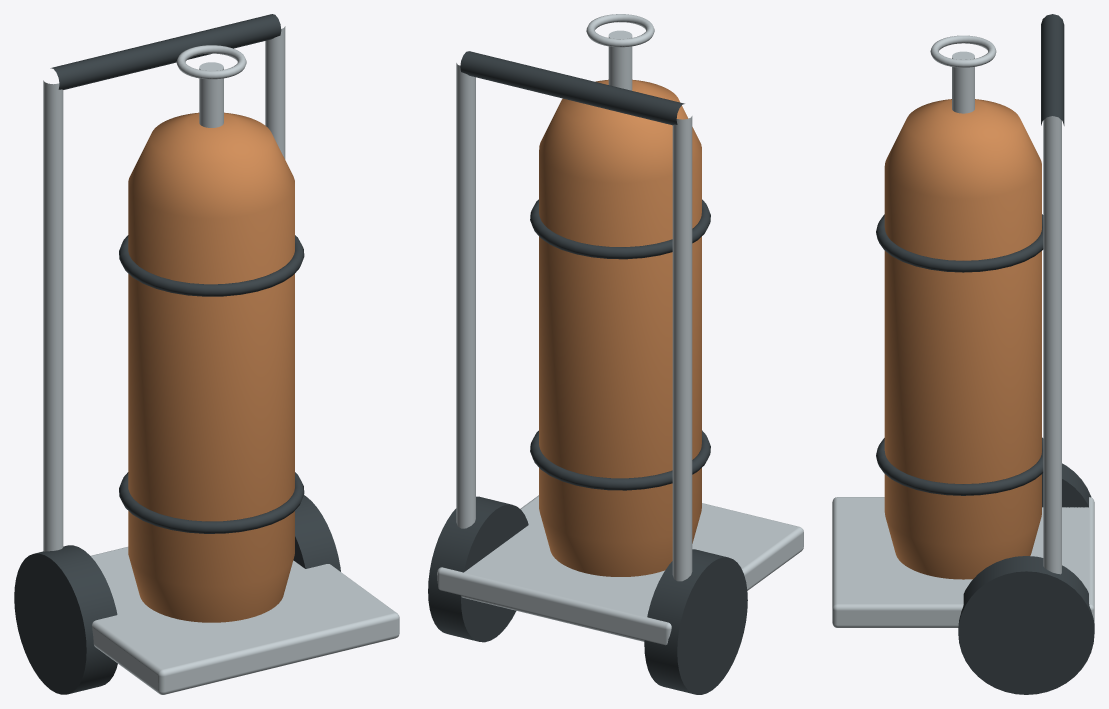
The model's file is abandoned-weather-station-and-storm-shelter-gas-cylind-2058a532__31027.glb.
The picture shows the model from 3 angles, left to right: view 1: azimuth 30°, elevation 25°; view 2: azimuth 150°, elevation 25°; view 3: azimuth 270°, elevation 25°; orthographic projection. The views are drawn at different scales.
Parts seen in each view (by area): view 1: gas-cylinder-trolley; view 2: gas-cylinder-trolley; view 3: gas-cylinder-trolley.
Boxes of the visible parts, x1=… form: gas-cylinder-trolley: x1=14, y1=14, x2=399, y2=694; gas-cylinder-trolley: x1=428, y1=14, x2=803, y2=694; gas-cylinder-trolley: x1=832, y1=14, x2=1094, y2=694.
Bounding box in the file's own units: 0.53 × 1.24 × 0.5.
